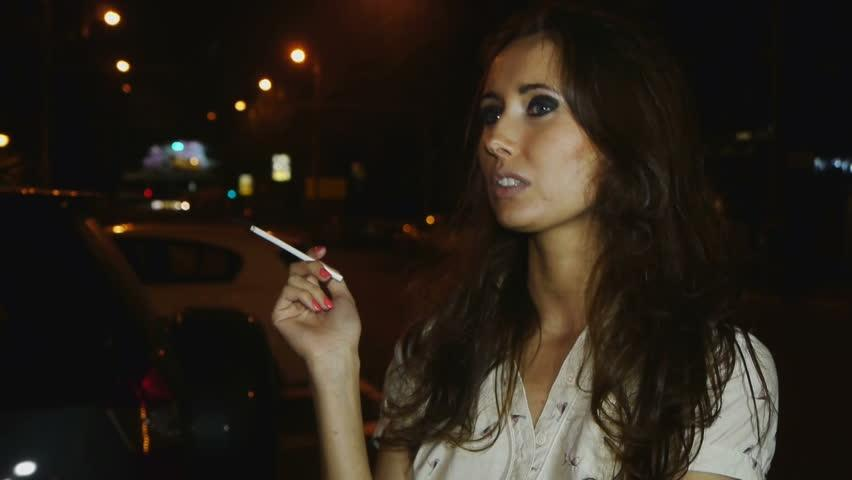cigarette: (248, 223, 346, 283)
